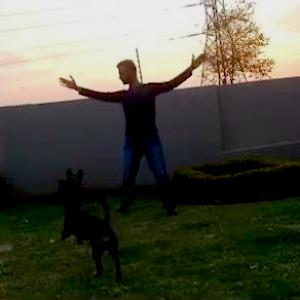takeoff: (70, 52, 214, 215)
